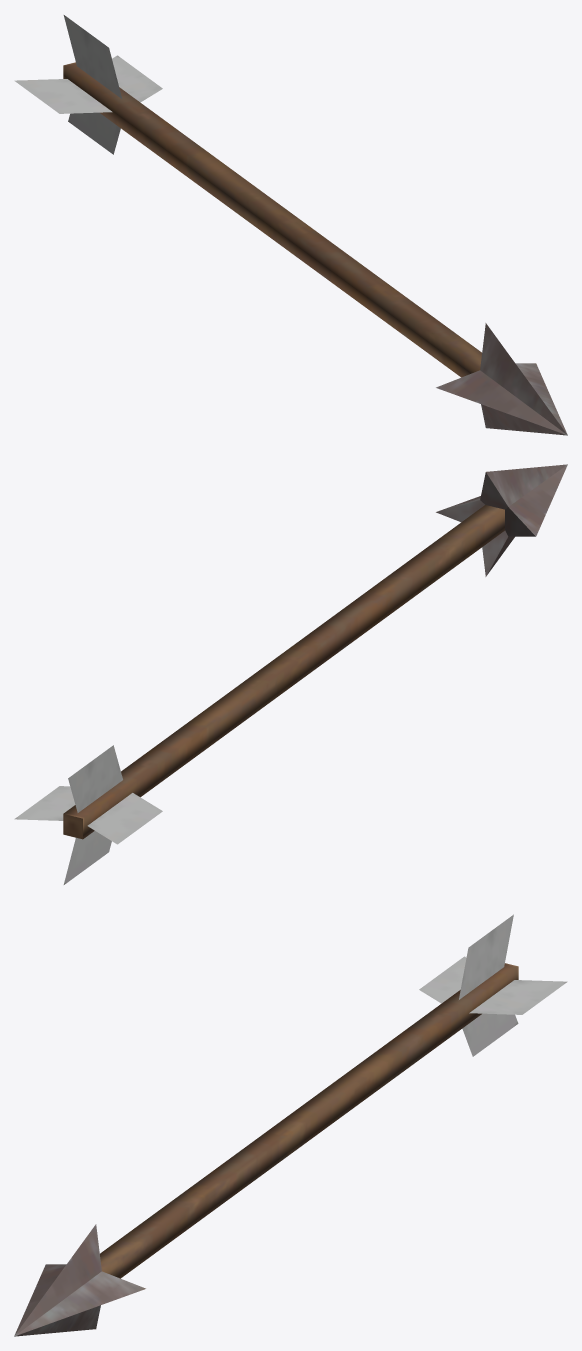
Rendered from arrow-slice-base.glb.
3 renders of one model, top to bottom at view 1: azimuth 30°, elevation 25°; view 2: azimuth 150°, elevation 25°; view 3: azimuth 330°, elevation 25°, orthographic.
Size of the model in its own units: 0.1676 by 0.1675 by 1.41.
1 material, 1 textured.
